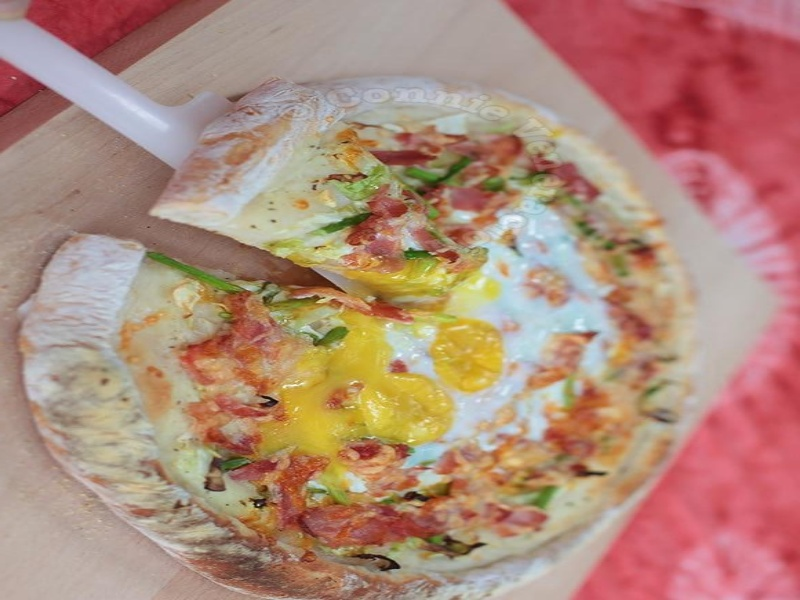oeuf: (356, 366, 468, 443), (419, 313, 517, 398)
